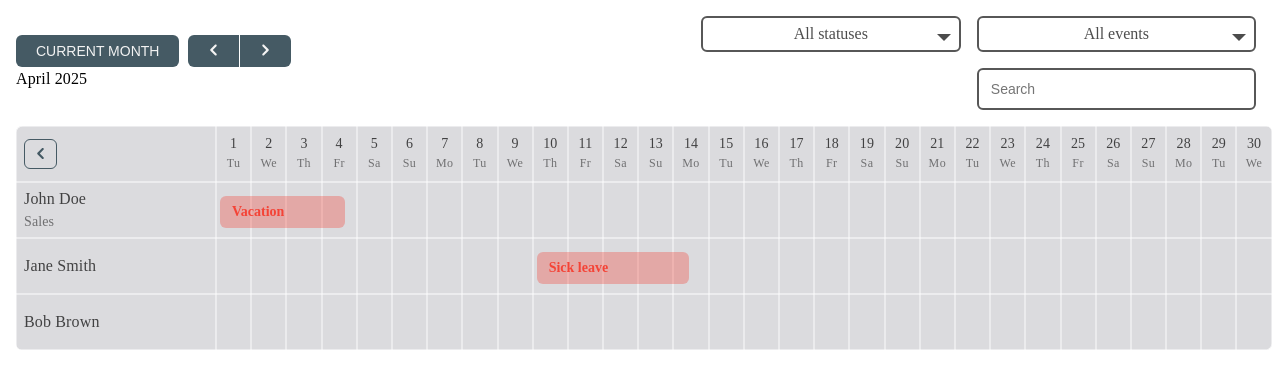
Test: TimelineCalendar › search › filters users by name
The image size is (1276, 367).
Expected: the number of elements with test id "user-item" is 3, left=24, top=190, right=86, bottom=207; left=24, top=257, right=96, bottom=274; left=24, top=313, right=100, bottom=330
Type "John" into the field with test id "search-input" at (1116, 89), box left=977, top=68, right=1256, bottom=110
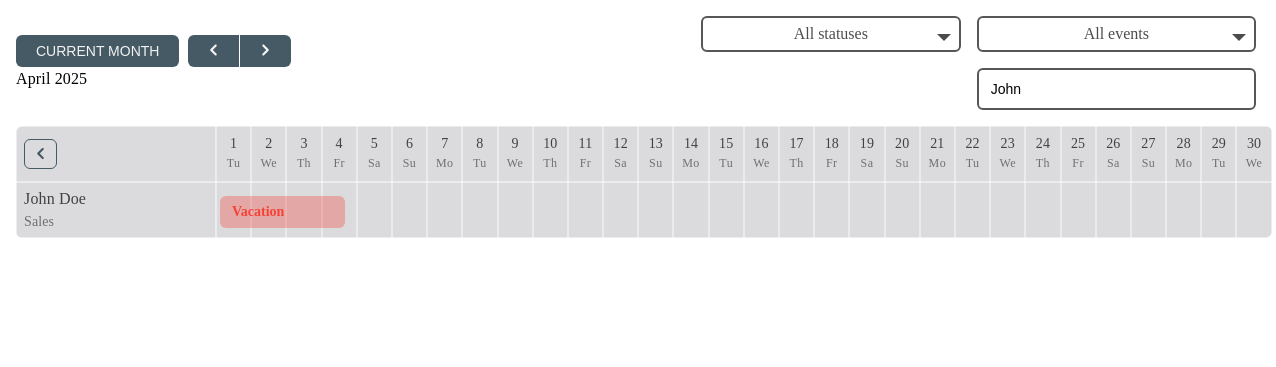
Expected: the text with test id "user-item" reads "John Doe", left=24, top=190, right=86, bottom=207
Now the number of elements with test id "user-item" is 1, box left=24, top=190, right=86, bottom=207
